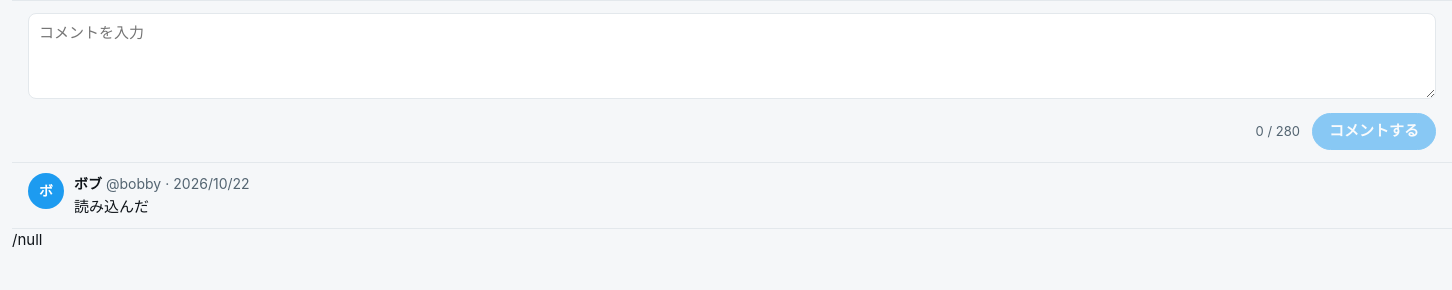
Test: CommentSection：投稿 › 投稿に失敗したら、入力を残したままエラーを出す（{"name":"ApiError","status":404,"code":"POST_NOT_FOUND","fieldErrors":[]}）
Expected: the text "読み込んだ" is shown, [74,196,149,216]
Type "コメント" into the text box with placeholder "コメントを入力" at {"x": 732, "y": 56}, box [28,13,1436,98]
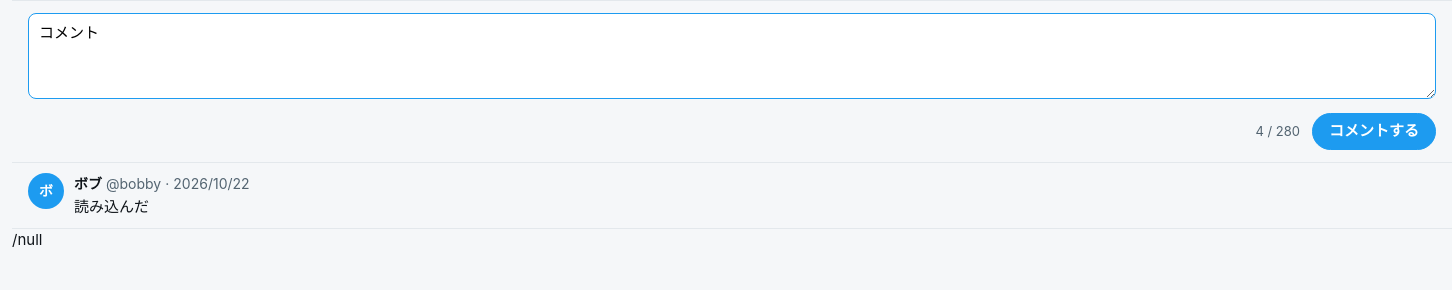
Click the button "コメントする" at {"x": 1374, "y": 131}, box [1312,113,1436,150]
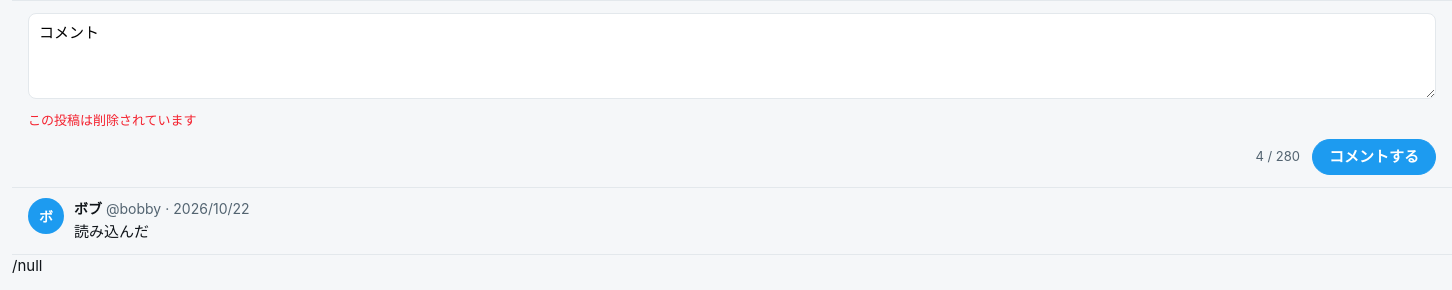
Now the button "コメントする" is enabled, box [1312,138,1436,175]
Now the message reads "この投稿は削除されています", box [28,112,197,128]
